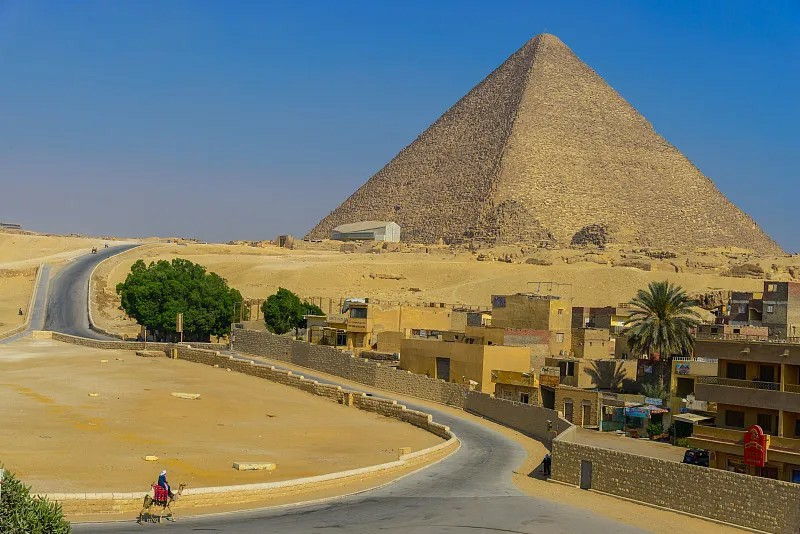Pyramid: (301, 34, 791, 259)
